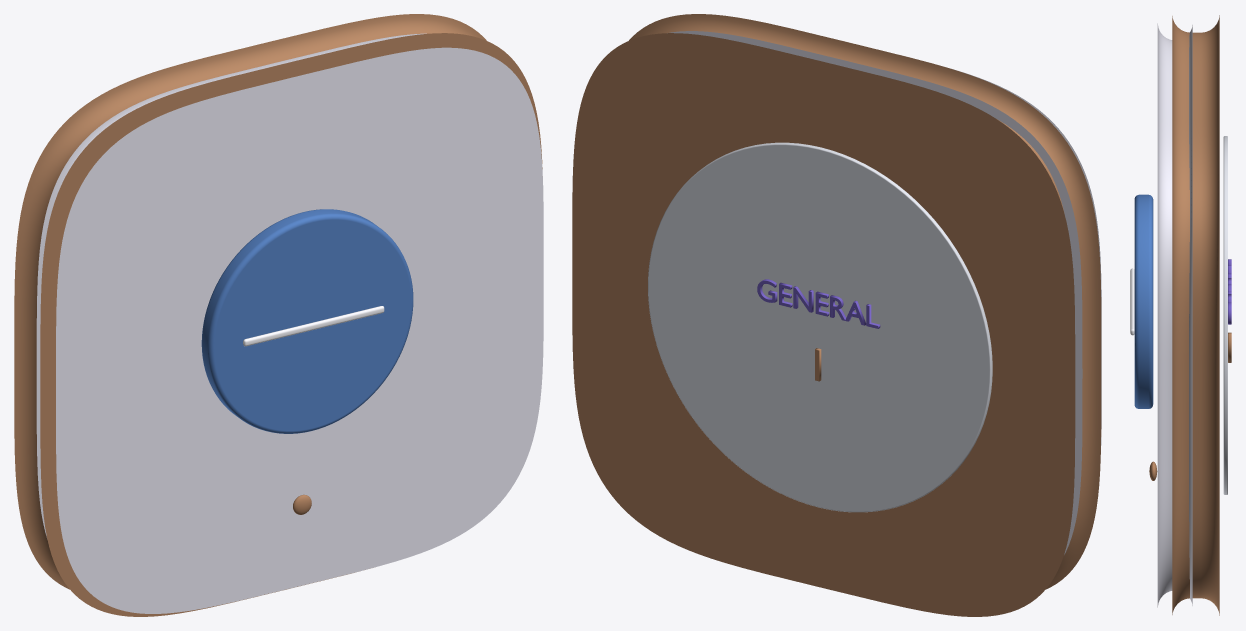
Rendered from ios-B-soft-otc-bronze.glb.
3 views of the same model, side by side, from view 1: azimuth 30°, elevation 25°; view 2: azimuth 150°, elevation 25°; view 3: azimuth 270°, elevation 25° (orthographic). The views are drawn at different scales.
Parts seen in each view (by area): view 1: Porcelain rounded-square face.004, Continuous-radius satin back.004, Tablet relief.001, Tablet score inlay.001; view 2: Continuous-radius satin back.004, Reverse center.004, Porcelain rounded-square face.004, Reverse category.004; view 3: Continuous-radius satin back.004, Porcelain rounded-square face.004, Tablet relief.001, Reverse center.004, Tablet score inlay.001, Reverse category.004.
Boxes of the visible parts, x1,y1,x2,y2 form: Porcelain rounded-square face.004: (36,33,543,613); Continuous-radius satin back.004: (14,14,542,616); Tablet relief.001: (201,209,413,433); Tablet score inlay.001: (243,306,384,346); Continuous-radius satin back.004: (572,14,1101,616); Reverse center.004: (648,142,992,512); Porcelain rounded-square face.004: (667,31,1101,554); Reverse category.004: (757,279,880,328); Continuous-radius satin back.004: (1149,15,1231,615); Porcelain rounded-square face.004: (1157,23,1192,607); Tablet relief.001: (1134,194,1153,408); Reverse center.004: (1223,136,1227,494); Tablet score inlay.001: (1130,268,1134,335); Reverse category.004: (1228,259,1231,324).
Size of the model in its own units: 2.11 by 2.11 by 0.406.
